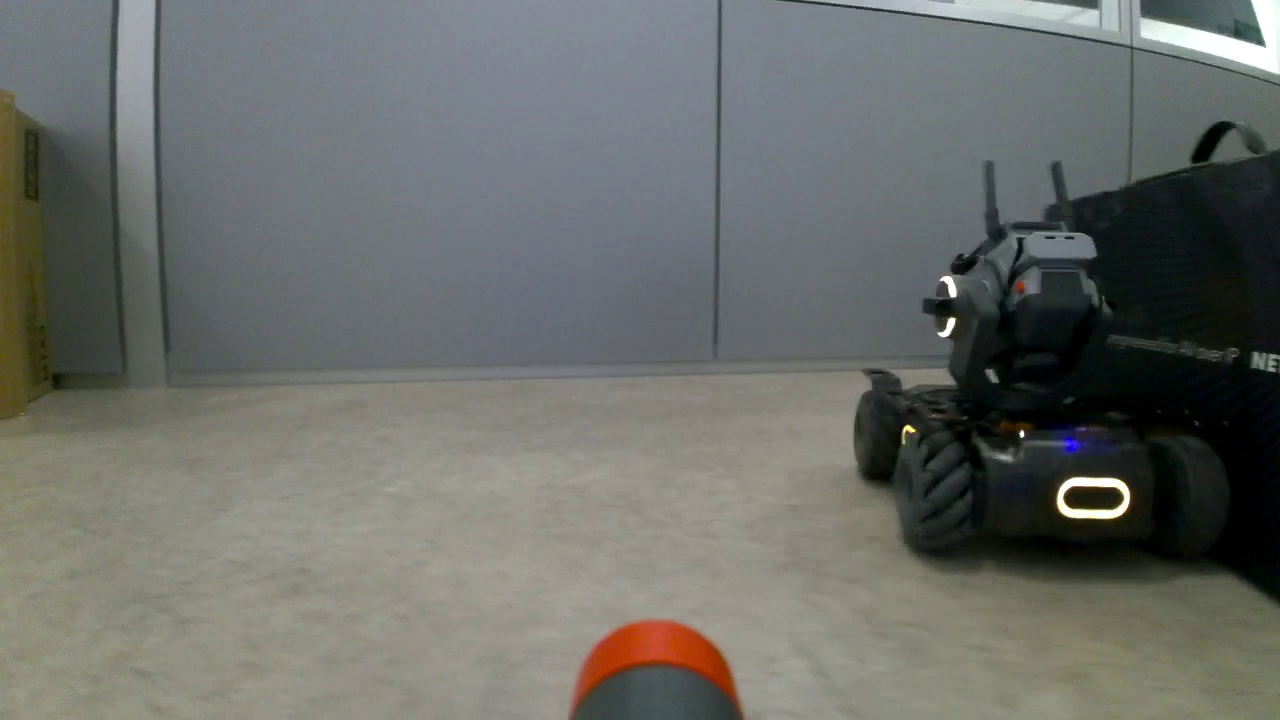robot: (851, 222, 1226, 571)
